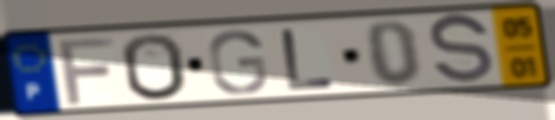0: (362, 18, 426, 89)
F: (54, 34, 117, 107)
G: (205, 28, 270, 97)
L: (277, 27, 338, 93)
O: (118, 31, 190, 103)
S: (426, 11, 497, 89)
